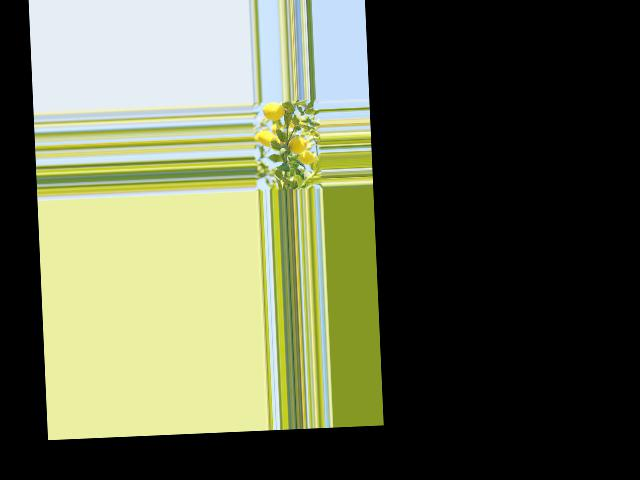lemon: (259, 101, 287, 122)
